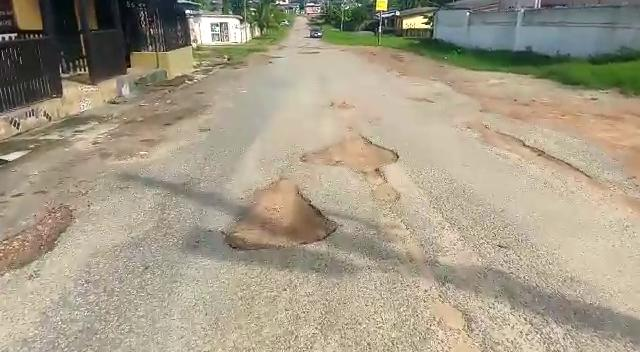pothole: (212, 178, 347, 252), (0, 197, 83, 279), (291, 133, 406, 176)
